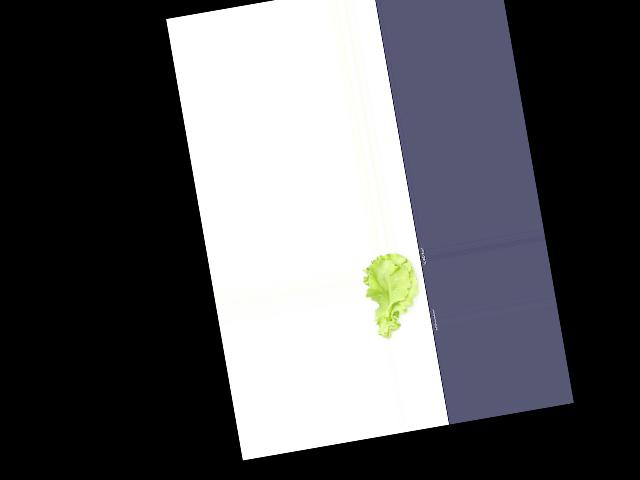lettuce: (358, 248, 430, 339)
